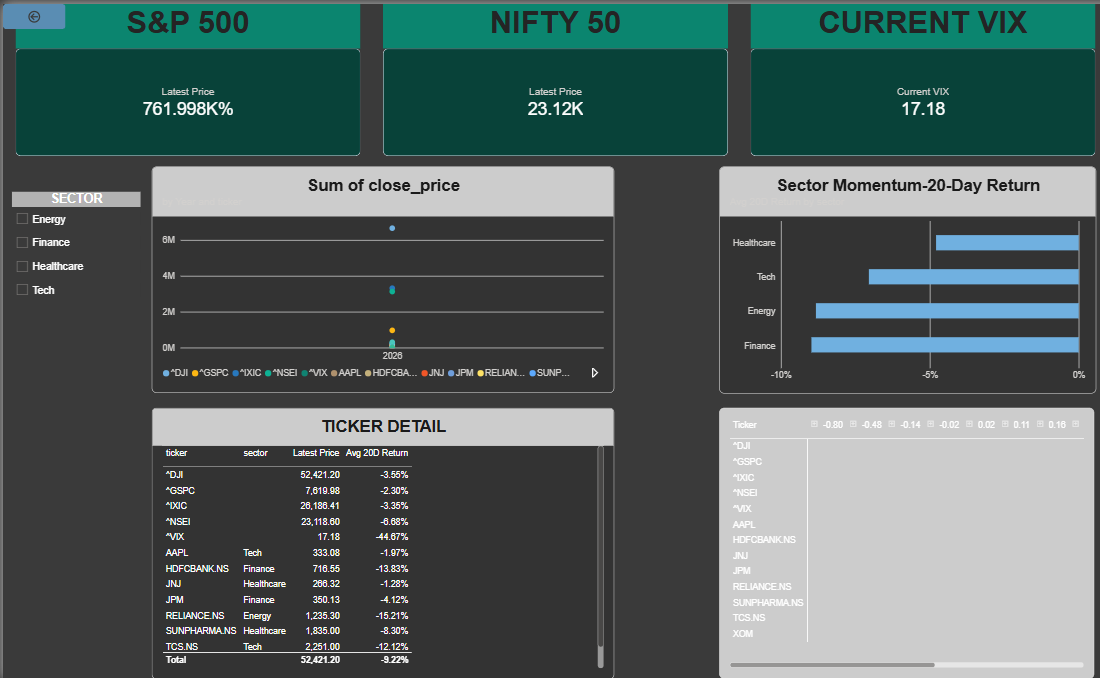

The dashboard page shown, as its layout file describes it:
{"tool":"powerbi","page":{"name":"Page 1","canvas":[1920,1080],"ordinal":0},"visuals":[{"type":"cardVisual","title":"S&P 500","fields":{"Data":["price_history.Latest Price"]},"box":[20,0,552,244],"z":0},{"type":"cardVisual","title":"NIFTY 50","fields":{"Data":["price_history.Latest Price"]},"box":[608,0,552,244],"z":1000},{"type":"cardVisual","title":"CURRENT VIX","fields":{"Data":["price_history.Current VIX"]},"box":[1196,0,552,244],"z":2000},{"type":"lineChart","fields":{"Category":["price_history.date.Variation.Date Hierarchy.Year","price_history.date.Variation.Date Hierarchy.Quarter","price_history.date.Variation.Date Hierarchy.Month","price_history.date.Variation.Date Hierarchy.Day"],"Y":["Sum(price_history.close_price)"],"Series":["price_history.ticker"]},"box":[238,260,740,362],"z":3000},{"type":"slicer","title":"SECTOR","fields":{"Values":["ticker_sectors.sector"]},"box":[13.3,300,206.7,278.3],"z":4000},{"type":"clusteredBarChart","title":"Sector Momentum-20-Day Return","fields":{"Category":["ticker_sectors.sector"],"Y":["price_history.Avg 20D Return"]},"box":[1146.7,260,603.3,363.3],"z":5000},{"type":"tableEx","title":"TICKER DETAIL","fields":{"Values":["price_history.ticker","ticker_sectors.sector","price_history.Latest Price","price_history.Avg 20D Return"]},"box":[238,646,740,434],"z":6000},{"type":"actionButton","box":[0,0,100,40],"z":8000},{"type":"pivotTable","fields":{"Rows":["correlation.Ticker"],"Columns":["correlation.^GSPC","correlation.^IXIC","correlation.^NSEI","correlation.^DJI","correlation.XOM","correlation.TCS.NS","correlation.SUNPHARMA.NS","correlation.RELIANCE.NS","correlation.JPM","correlation.JNJ","correlation.HDFCBANK.NS","correlation.AAPL"]},"box":[1146.7,646.7,600,433.3],"z":8001}]}

Visuals, with their boxes on the page's 1920x1080 design canvas (x1, y1, x2, y2). These are canvas units, not pixel positions in the 1100x678 screenshot, which may show the page scaled, cropped or inside an application window:
"S&P 500" cardVisual: [20,0,572,244]
"NIFTY 50" cardVisual: [608,0,1160,244]
"CURRENT VIX" cardVisual: [1196,0,1748,244]
lineChart - price_history.date.Variation.Date Hierarchy.Year x price_history.date.Variation.Date Hierarchy.Quarter: [238,260,978,622]
"SECTOR" slicer: [13,300,220,578]
"Sector Momentum-20-Day Return" clusteredBarChart: [1147,260,1750,623]
"TICKER DETAIL" tableEx: [238,646,978,1080]
actionButton: [0,0,100,40]
pivotTable - correlation.Ticker x correlation.^GSPC: [1147,647,1747,1080]
